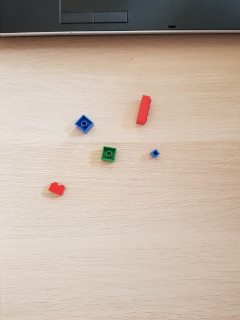1x1 blue: (149, 149, 159, 159)
1x2 red: (48, 182, 66, 197)
2x2 blue: (75, 114, 95, 134)
2x2 green: (101, 145, 118, 163)
2x4 red: (134, 94, 152, 125)
